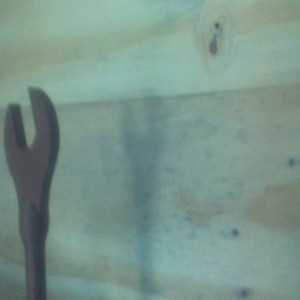spanner: (3, 85, 60, 300)
